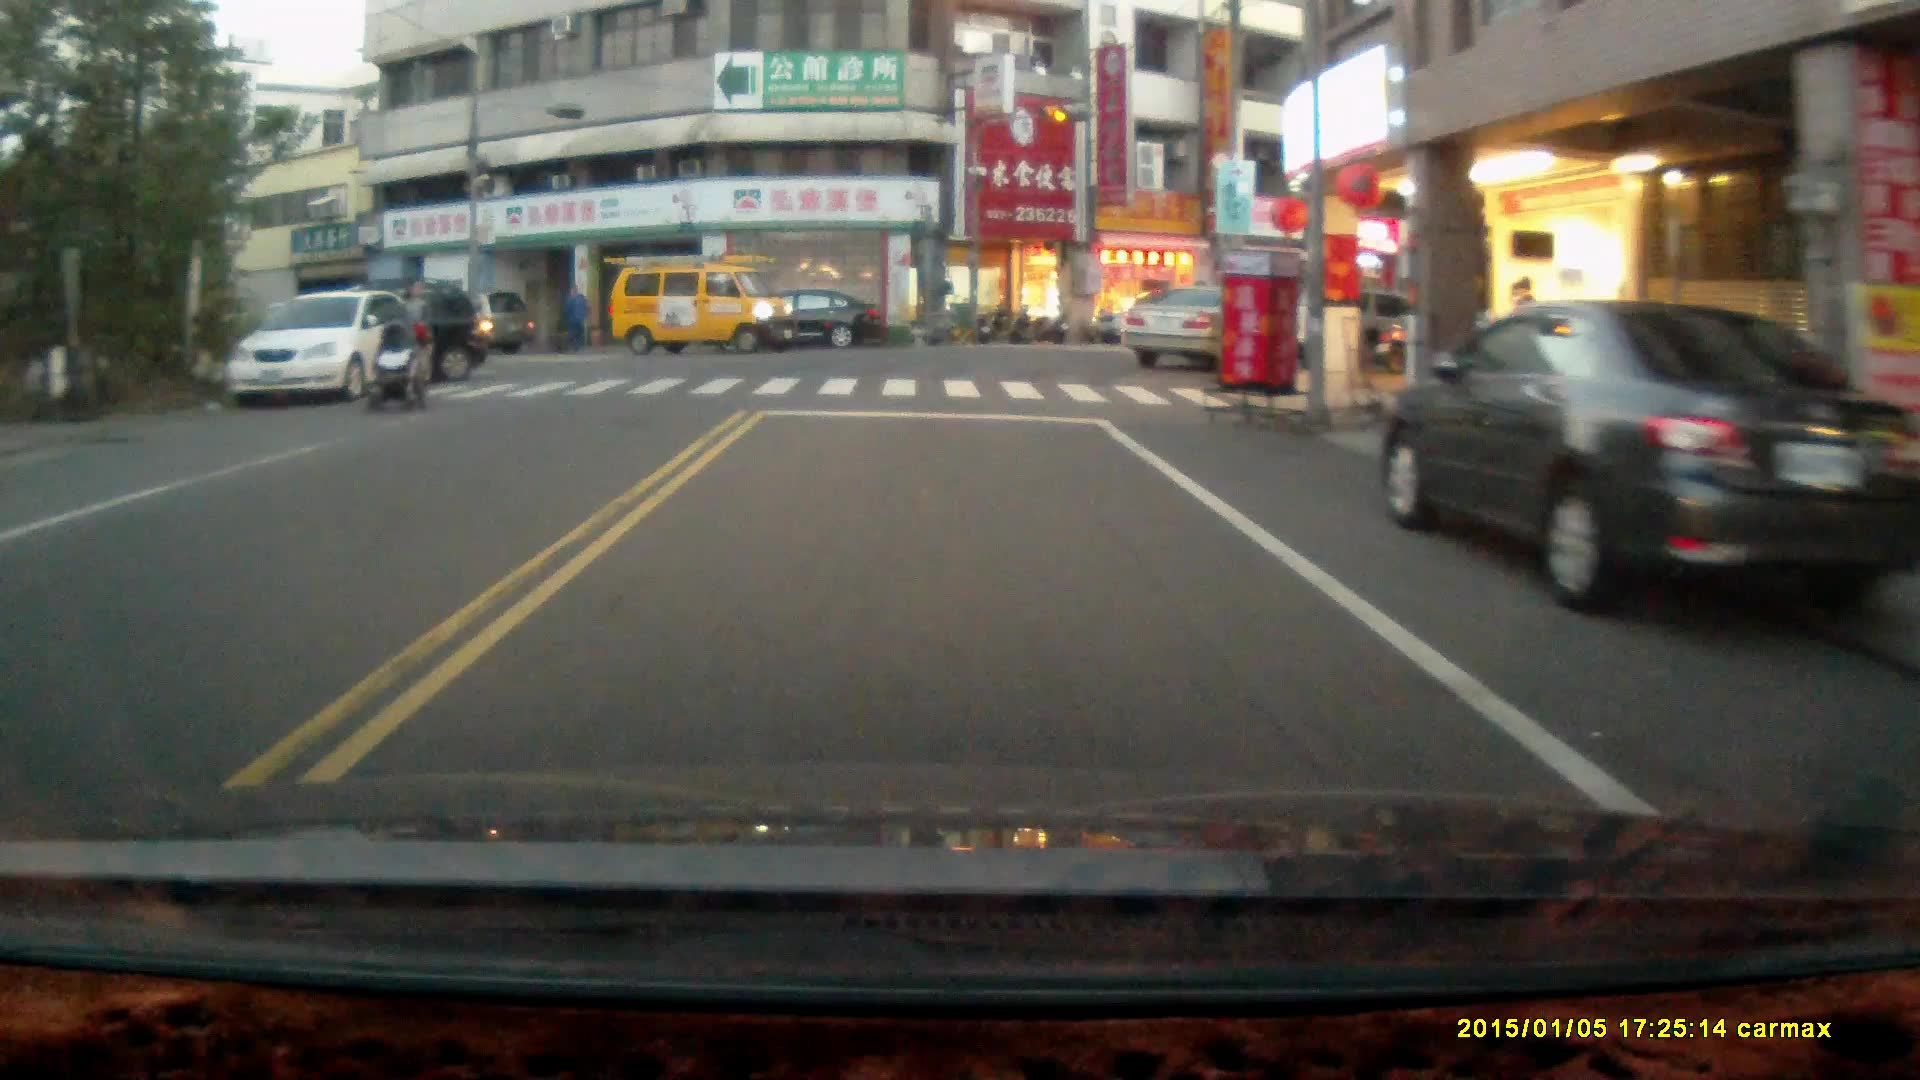pedestrian: (393, 275, 434, 394), (560, 281, 586, 352)
rider: (361, 319, 426, 414)
vehicle: (1377, 299, 1891, 620), (229, 293, 429, 412), (267, 276, 486, 383), (611, 252, 793, 353), (733, 283, 885, 352), (406, 286, 541, 363), (1121, 286, 1234, 371)
